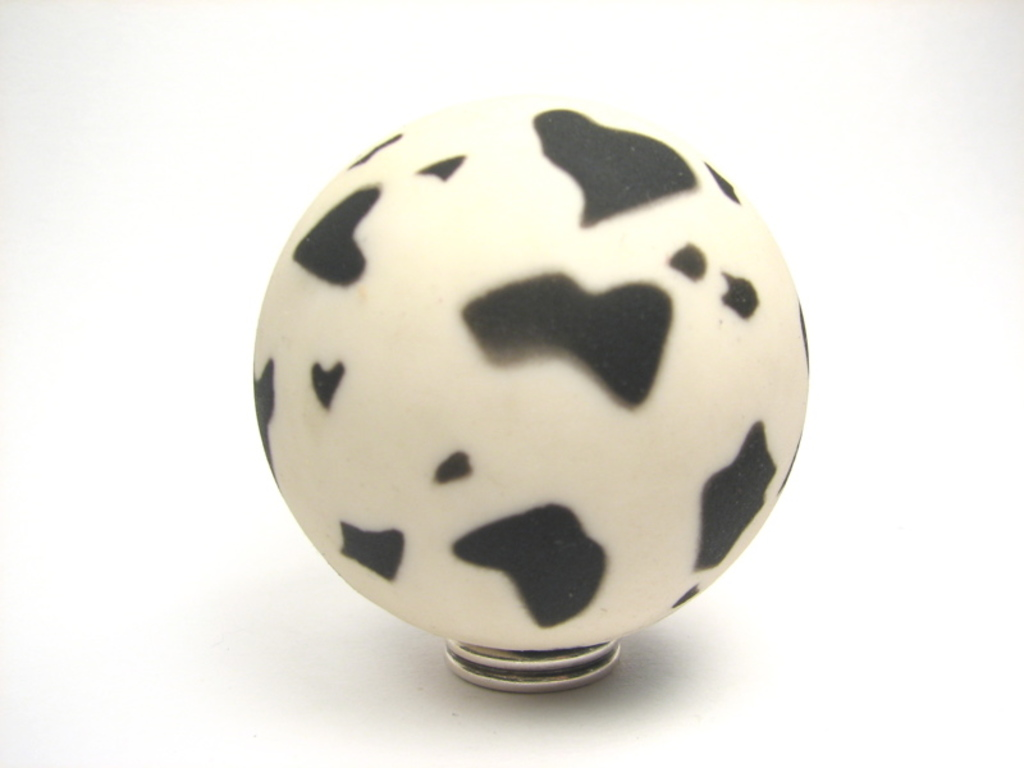Ball: (251, 104, 806, 649)
